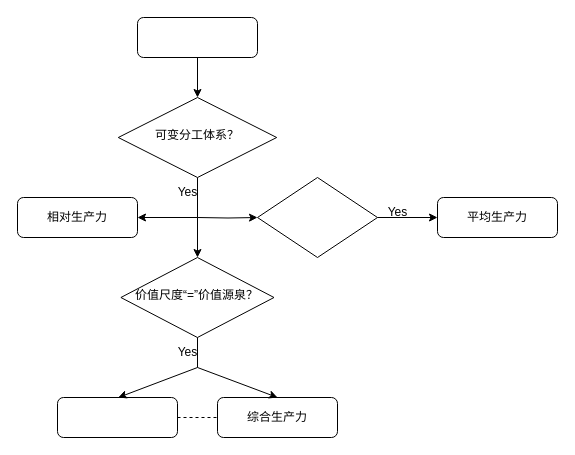
Some shapes in this 575 by 455 pixel diagram are drawn without their labels. The shapes that lost their labels are listed below. From the top down, each one's box as (x1, y1, x2, y2) in pixels, then its label:
(136, 16, 258, 58): 绝对生产力
(256, 176, 378, 258): 多个生产者？
(56, 396, 178, 438): 比较生产力
